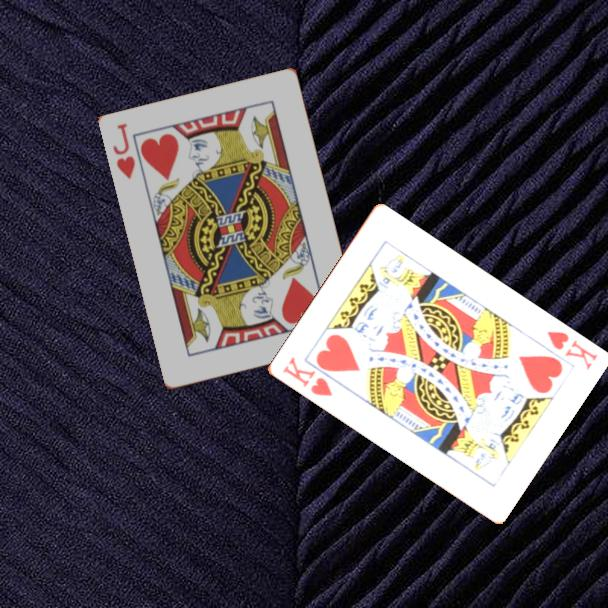h11: (110, 120, 139, 183)
h13: (278, 353, 335, 399), (543, 328, 600, 373)
